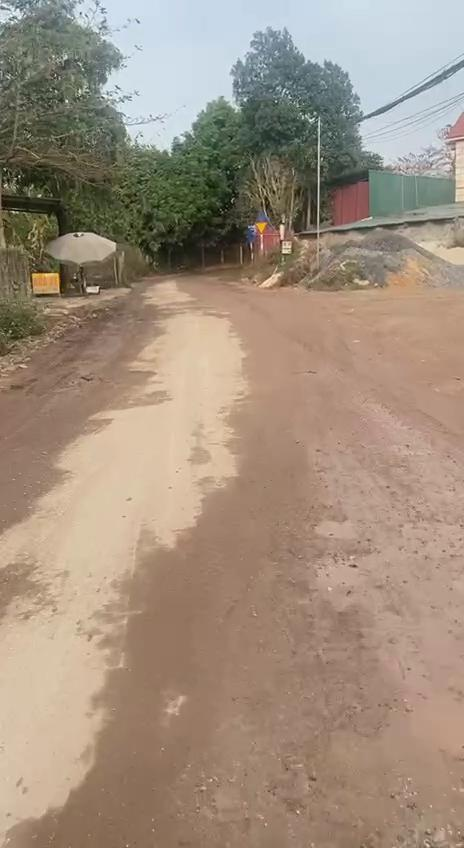pothole: (308, 507, 376, 606)
